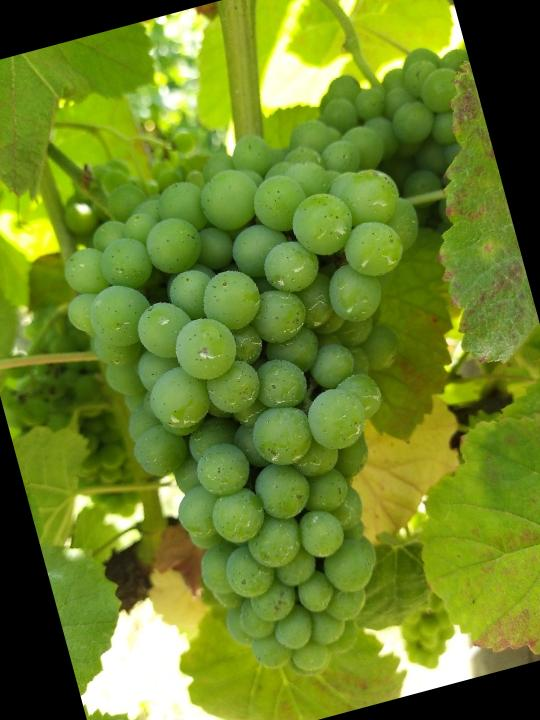grape: (37, 122, 529, 714)
